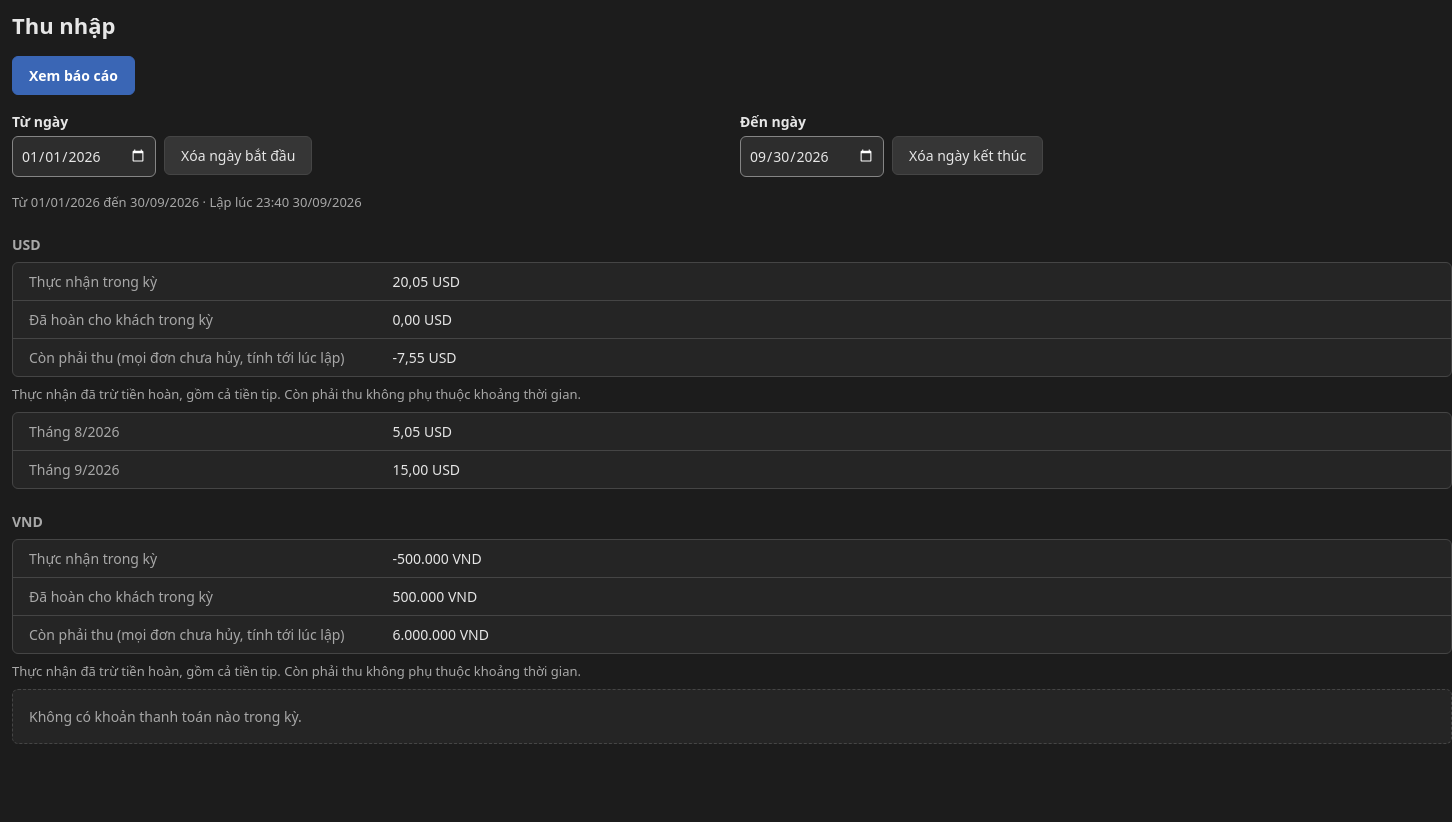
Test: page income_report — a draft the format check rejects › "Xóa ngày bắt đầu" empties the field (and only that one); the button then goes away
Click the button "Xóa ngày bắt đầu". click: (238, 155)
box: [164,136,312,174]
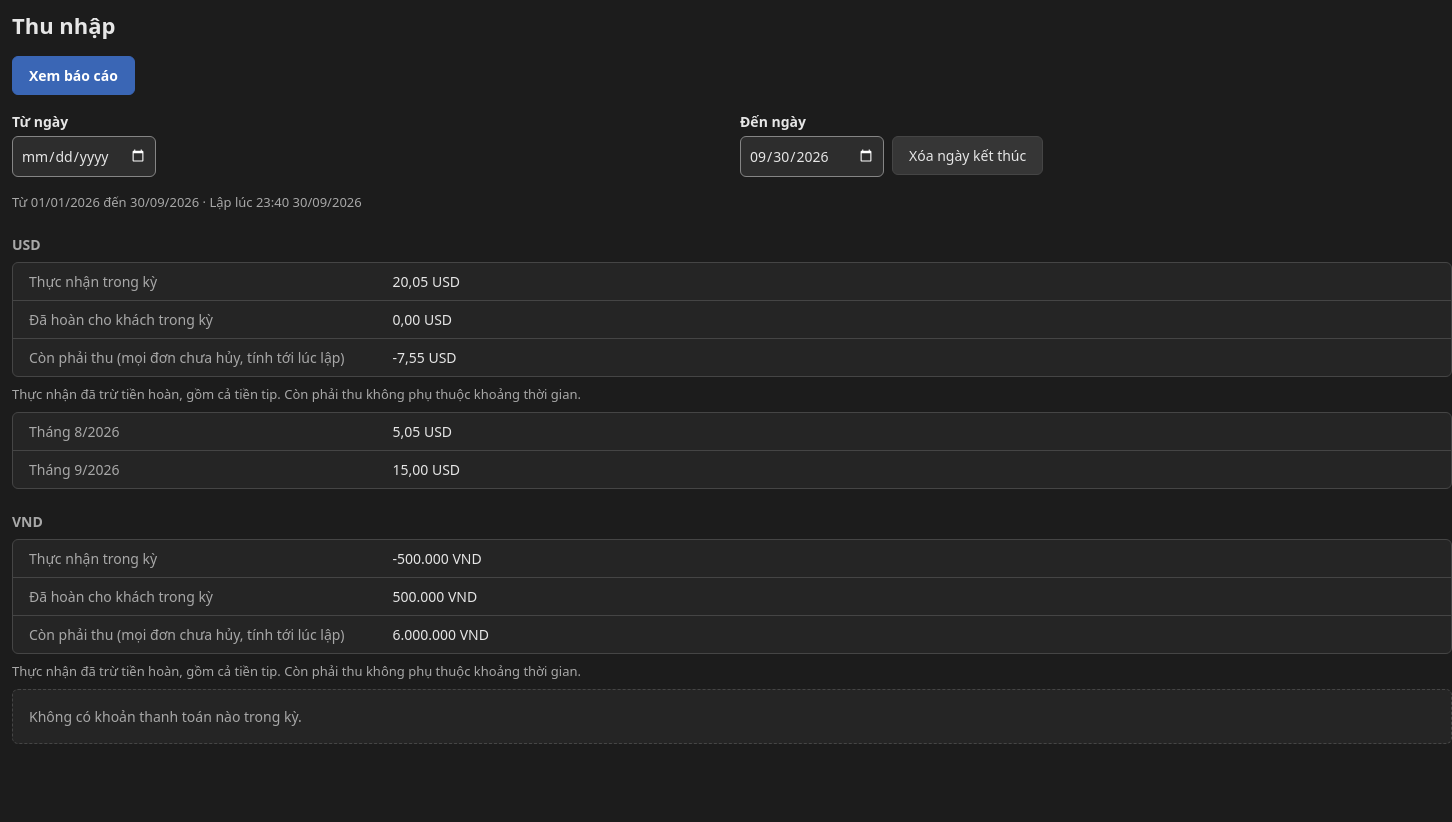
Expected: the date field labelled "Đến ngày" holds "2026-09-30", [740,136,884,176]
Now the date field labelled "Từ ngày" is empty, box [12,136,156,176]
Now the button "Xóa ngày bắt đầu" is gone
